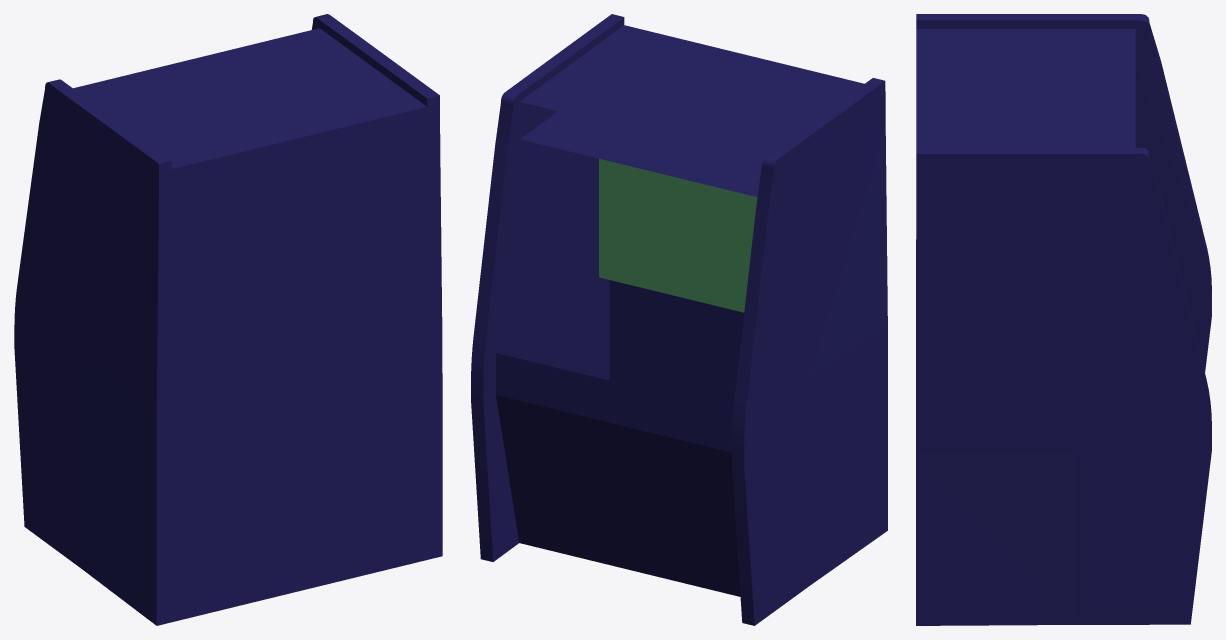
File: body.obj
3 views of the same model, side by side, from view 1: azimuth 30°, elevation 25°; view 2: azimuth 150°, elevation 25°; view 3: azimuth 270°, elevation 25° (orthographic). The views are drawn at different scales.
Parts seen in each view (by area): view 1: Body; view 2: Body; view 3: Body.
Boxes of the visible parts, x1,y1,x2,y2 form: Body: [14, 14, 442, 625]; Body: [471, 14, 887, 625]; Body: [916, 14, 1211, 625].
Size of the model in its own units: 1.12 by 1.73 by 0.9828.
1 material, 1 textured.
